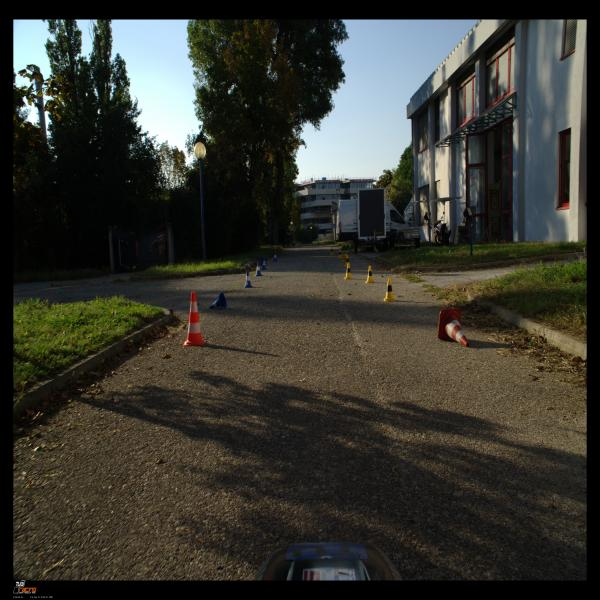blue_cone: (210, 292, 228, 309), (244, 270, 252, 288), (255, 262, 262, 276), (261, 258, 267, 270), (273, 252, 278, 262), (262, 258, 266, 266)
large_orange_cone: (183, 291, 206, 346), (438, 308, 470, 347)
yellow_cone: (384, 278, 396, 301), (364, 266, 376, 283), (344, 264, 353, 280), (344, 255, 352, 267), (338, 249, 342, 258), (330, 247, 334, 255), (342, 254, 346, 262)
